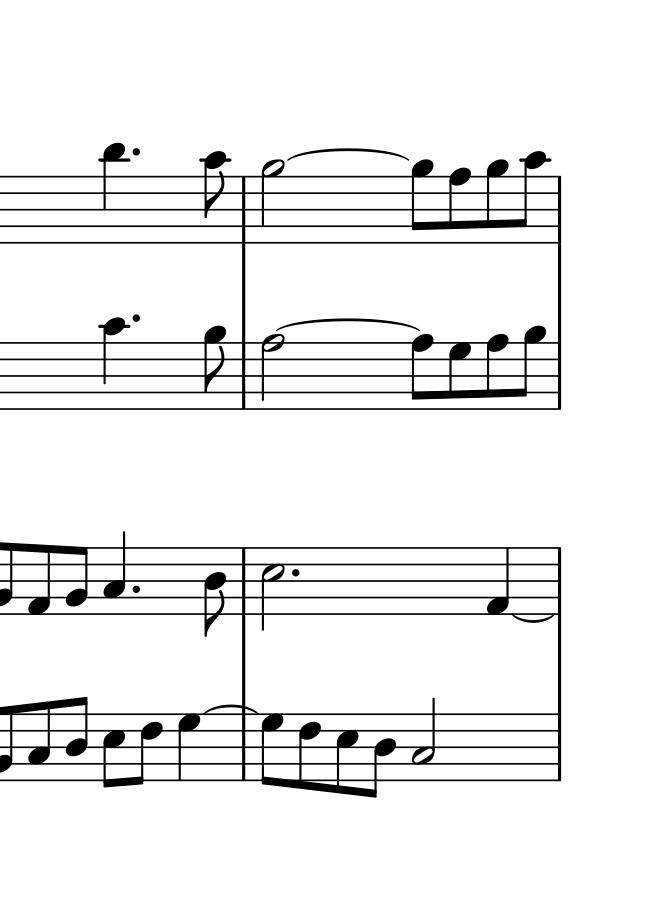2_3: (410, 698, 439, 781)
2_5: (259, 546, 286, 630)
2_8: (259, 332, 284, 412)
2_9: (259, 158, 284, 245)
4_1: (485, 546, 511, 617)
4_10: (101, 317, 126, 412)
4_3: (102, 534, 127, 615)
4_7: (176, 712, 201, 781)
8_1: (26, 542, 52, 617)
8_10: (519, 150, 549, 246), (202, 151, 230, 246)
8_11: (100, 137, 128, 247)
8_2: (64, 545, 88, 616)
8_3: (26, 698, 52, 784)
8_4: (366, 714, 396, 800), (202, 546, 227, 639), (65, 694, 89, 783)
8_5: (334, 711, 359, 796), (101, 710, 125, 790)
8_6: (133, 713, 164, 786), (297, 710, 322, 793)
8_7: (259, 712, 283, 788), (447, 341, 472, 411)
8_8: (410, 332, 435, 413), (448, 167, 472, 246), (485, 334, 509, 412)
8_9: (516, 325, 547, 412), (202, 324, 227, 412), (485, 160, 509, 245), (410, 158, 433, 246)
Single_barline: (236, 342, 253, 408), (236, 177, 253, 242), (237, 715, 253, 782), (237, 548, 253, 614), (551, 716, 567, 780), (552, 176, 567, 243), (553, 341, 566, 411)
Slur: (275, 318, 421, 331), (286, 146, 408, 161), (204, 703, 257, 715), (511, 614, 557, 624)
dot: (288, 565, 302, 580), (129, 145, 143, 159), (129, 311, 142, 326), (129, 582, 141, 595)
